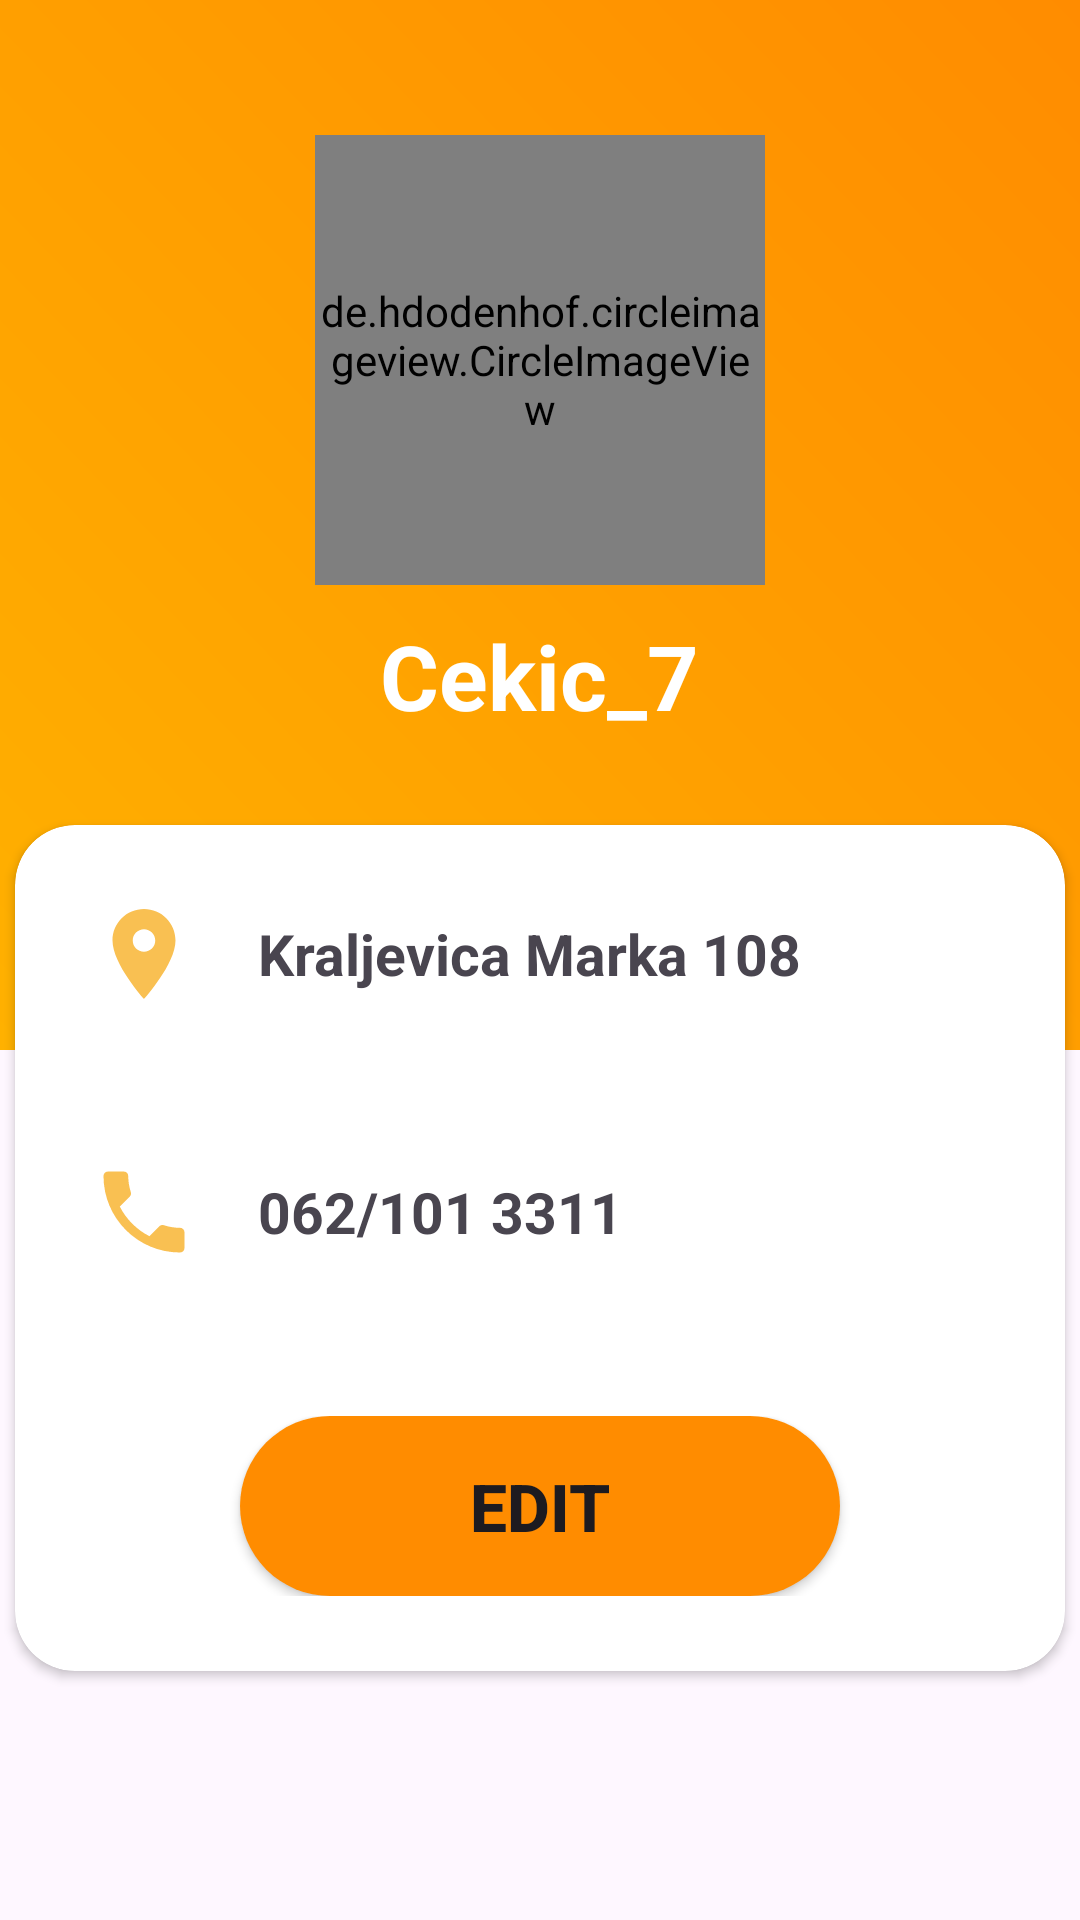

Where icons sit on this 1080 × 1920 app screen, as [x1,y1,x2,y2]:
location on: [112,909,176,999]
phone: [103,1171,185,1253]
